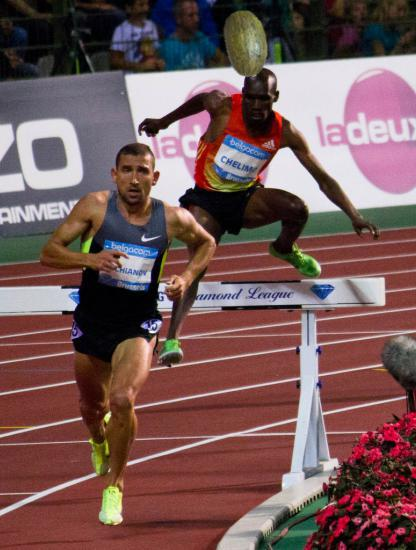Melon: (213, 10, 281, 78)
